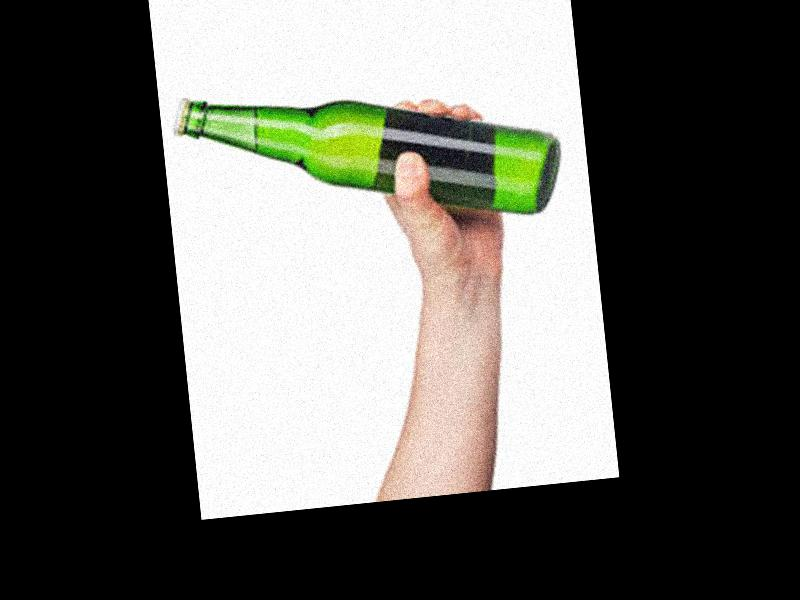Beer: (170, 60, 567, 249)
